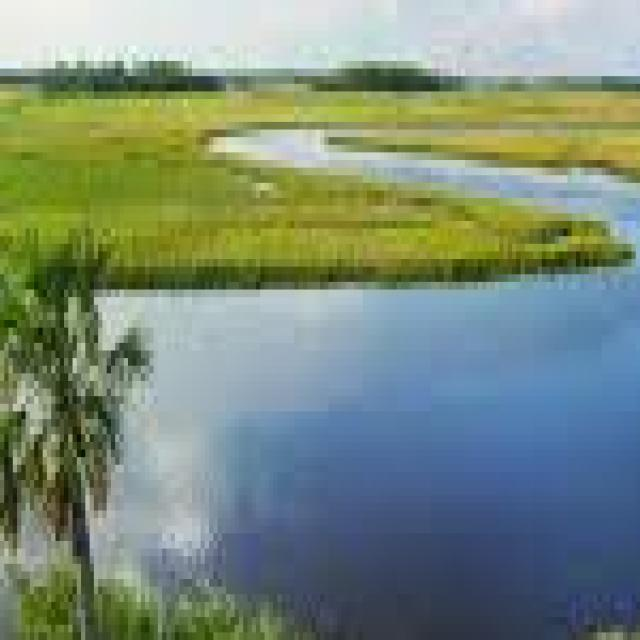-: (209, 282, 640, 495)
